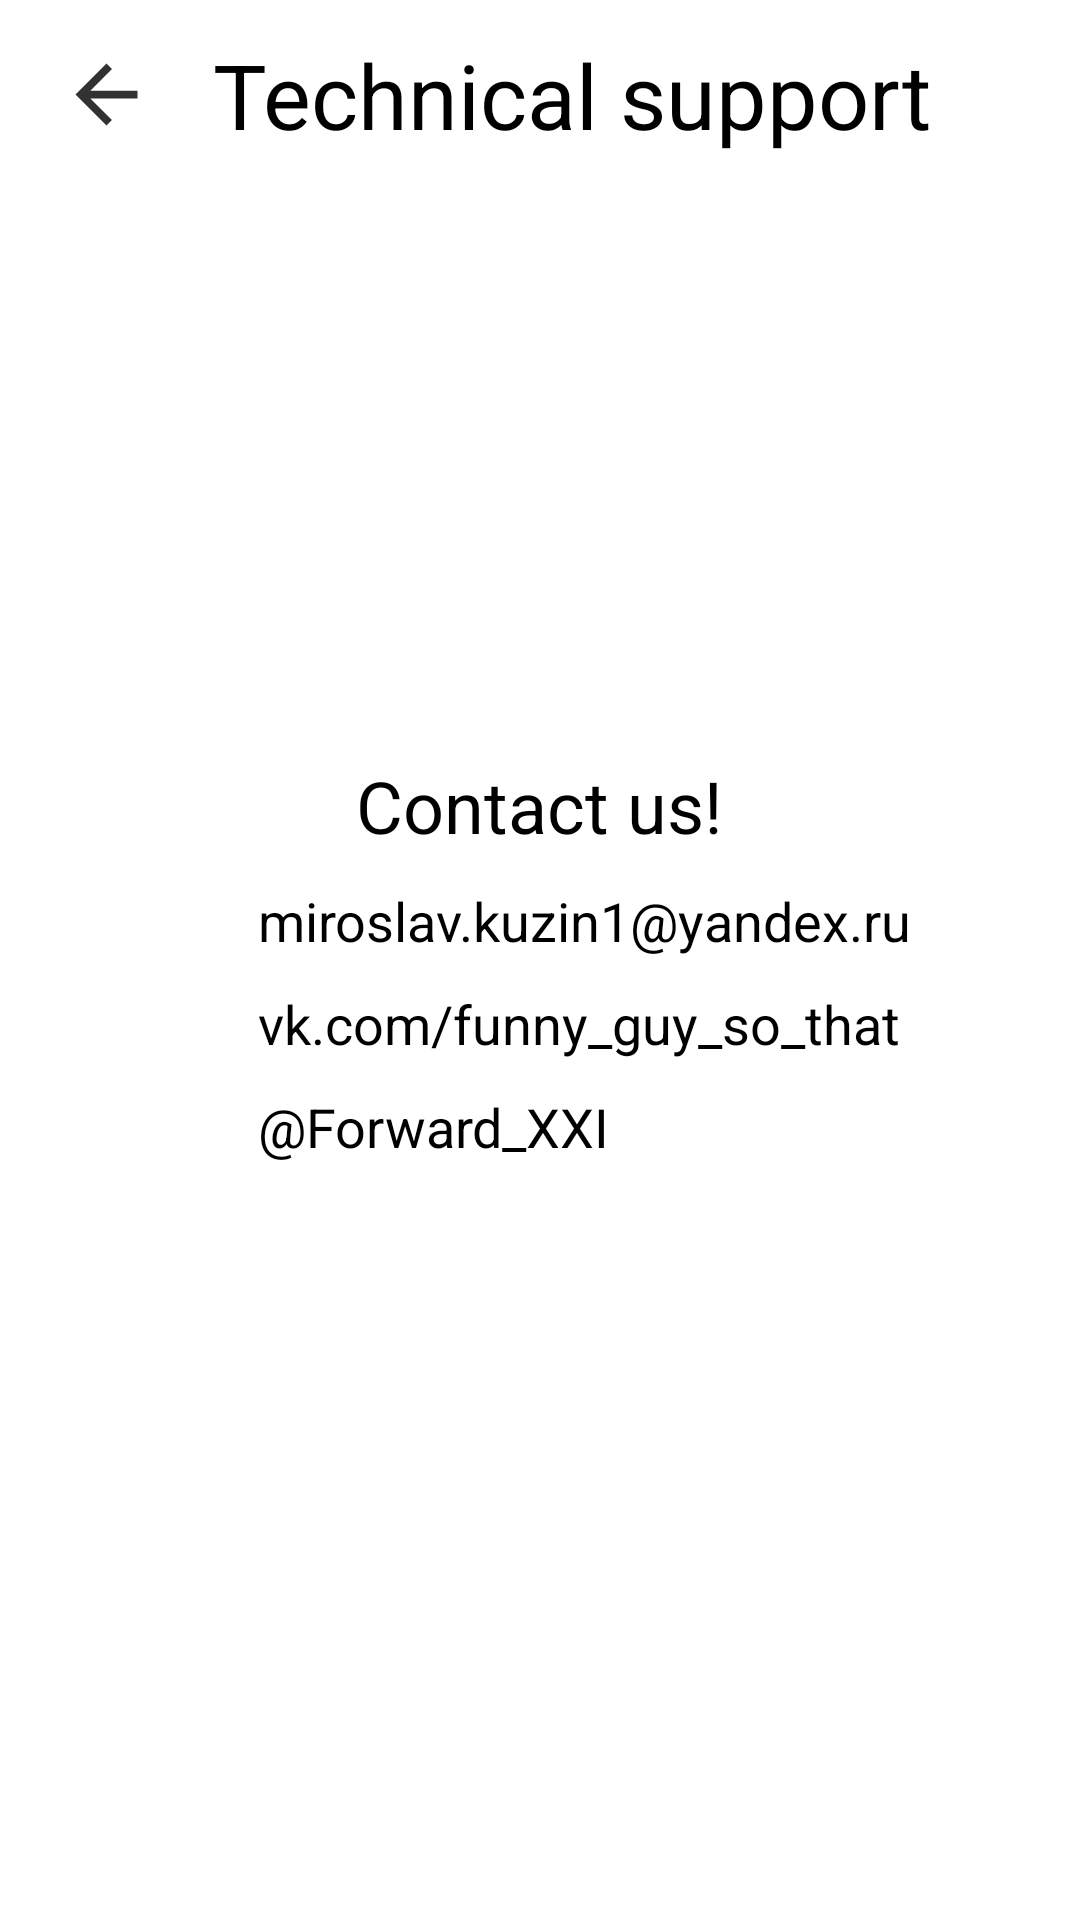

Icon bounding boxes for this 1080px×1920px phone screenshot, format (x1, y1, x2, y2):
Back: (75, 63, 138, 126)
